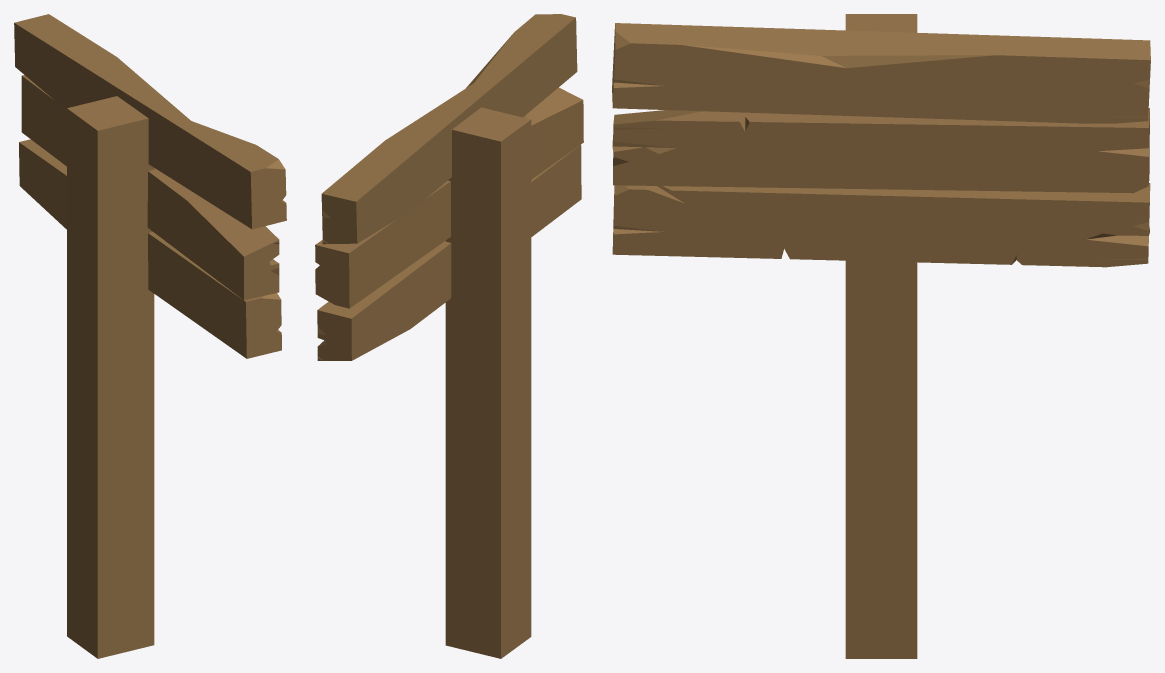
File: sign.fbx
3 views of the same model, side by side, from view 1: azimuth 30°, elevation 25°; view 2: azimuth 150°, elevation 25°; view 3: azimuth 270°, elevation 25° (orthographic). The views are drawn at different scales.
Visible parts, largest first — view 1: Cube; view 2: Cube; view 3: Cube.
Part boxes in pixels (x1,y1,x2,y2): Cube: (14, 14, 286, 658); Cube: (315, 14, 583, 658); Cube: (612, 14, 1150, 658).
Bounding box in the file's own units: 45.04 × 261 × 201.
